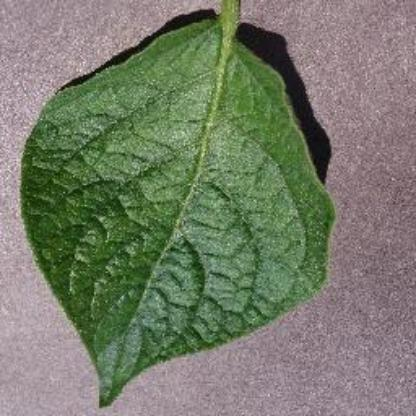Healthy-plant: (12, 6, 350, 408)
